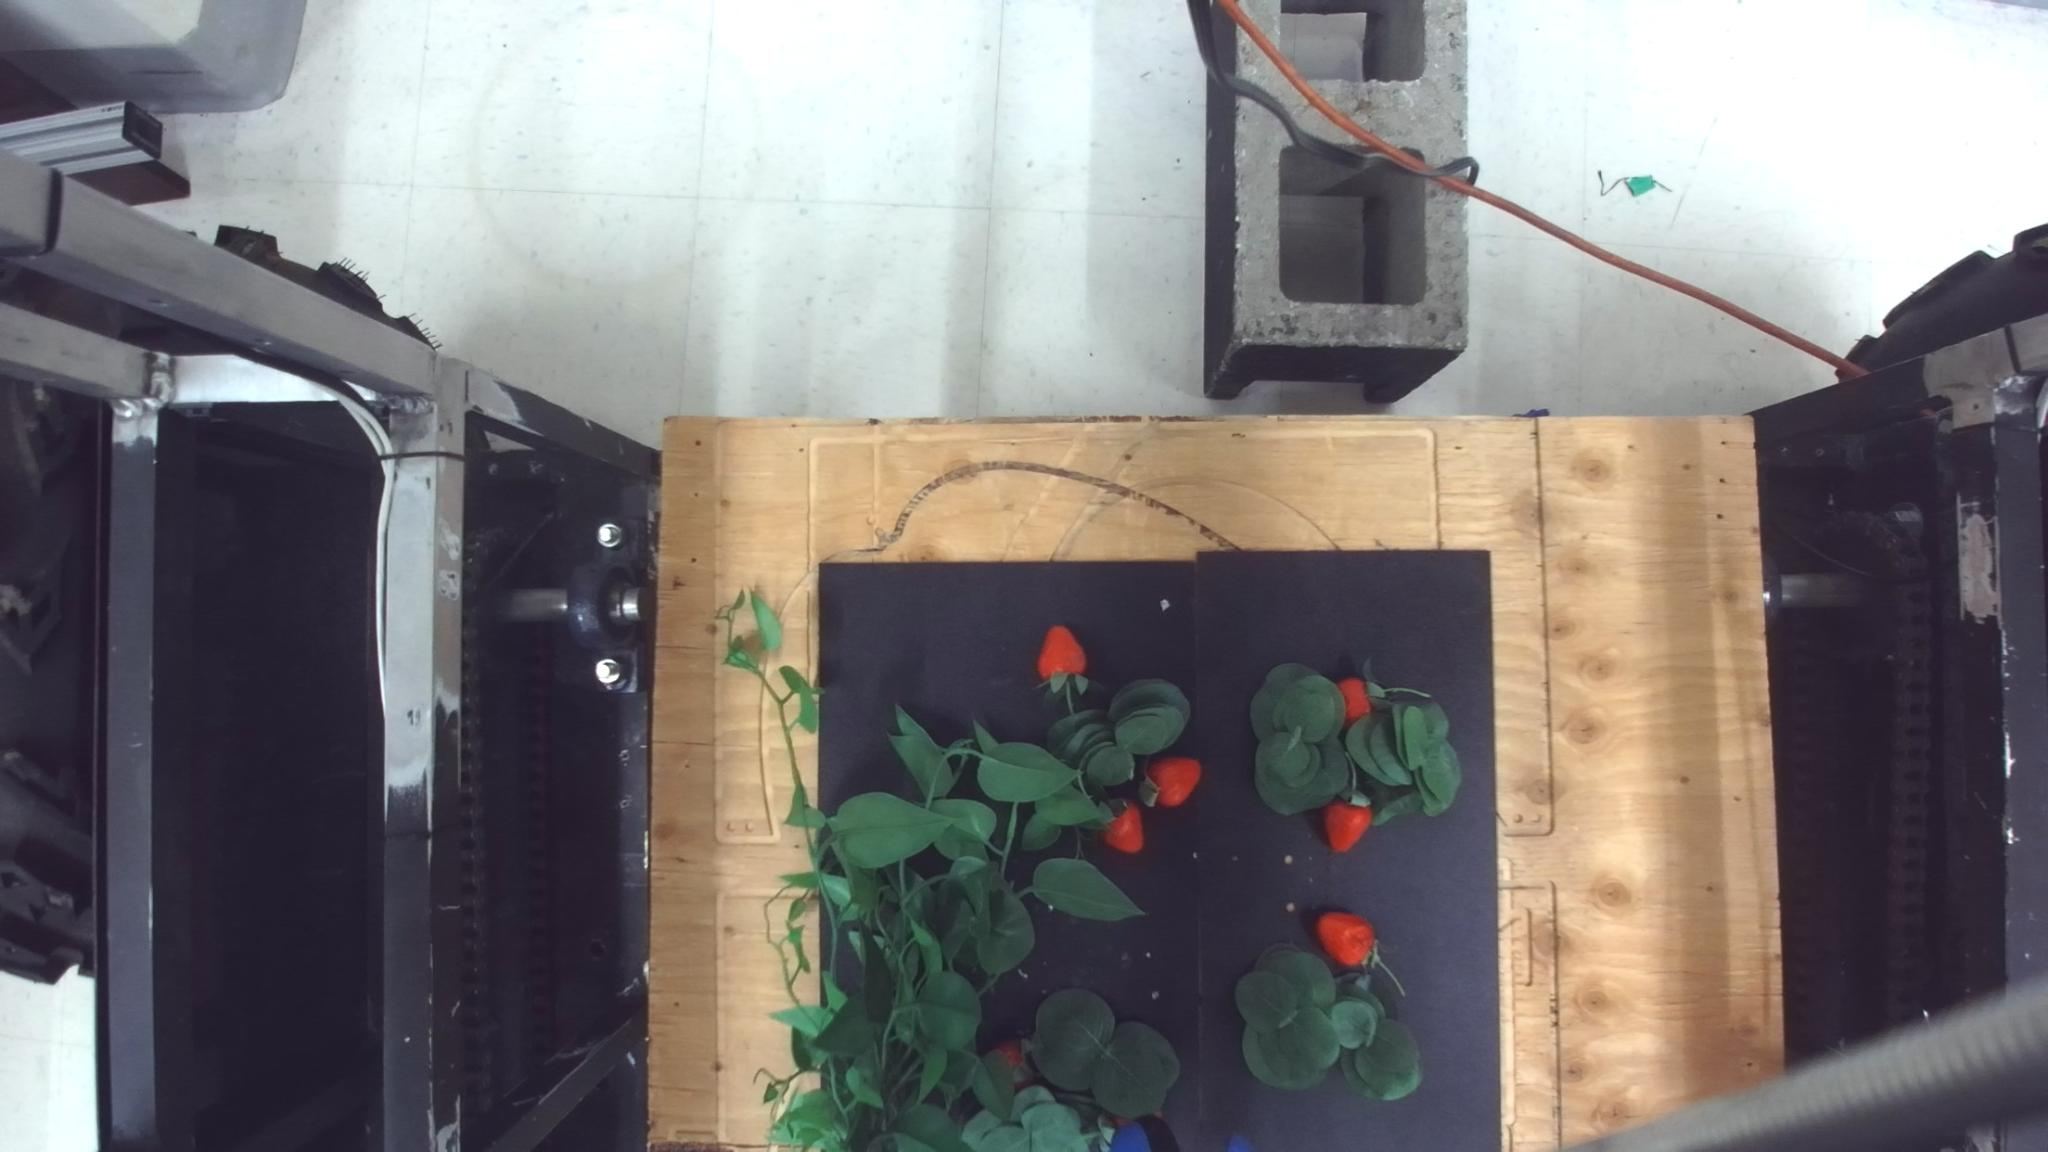strawberry: (1312, 909, 1376, 969), (1035, 623, 1087, 689), (1138, 755, 1201, 809), (1322, 791, 1373, 852), (987, 1034, 1037, 1094), (1101, 799, 1145, 854), (1336, 675, 1371, 723)
